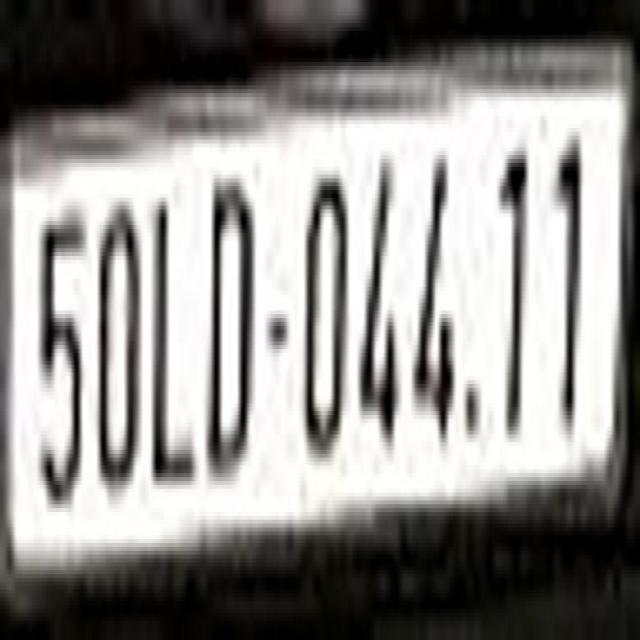0: (294, 159, 346, 477), (96, 198, 142, 504)
1: (496, 108, 528, 504), (552, 120, 581, 438)
4: (357, 140, 398, 484), (418, 171, 462, 488)
5: (40, 217, 84, 520)
D: (205, 163, 256, 512)
L: (148, 198, 196, 489)
